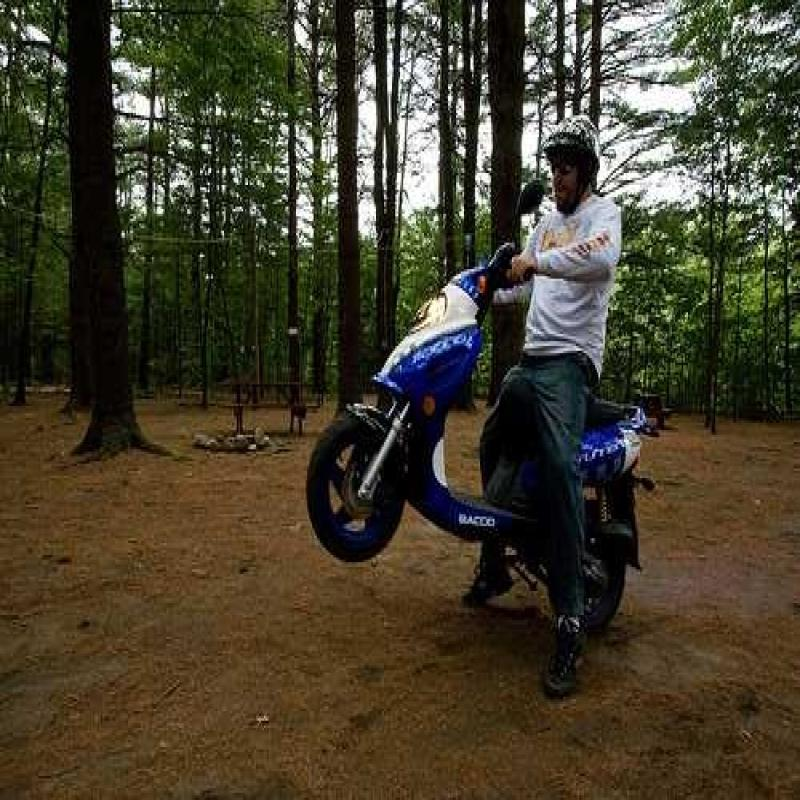bike: (302, 219, 515, 564)
